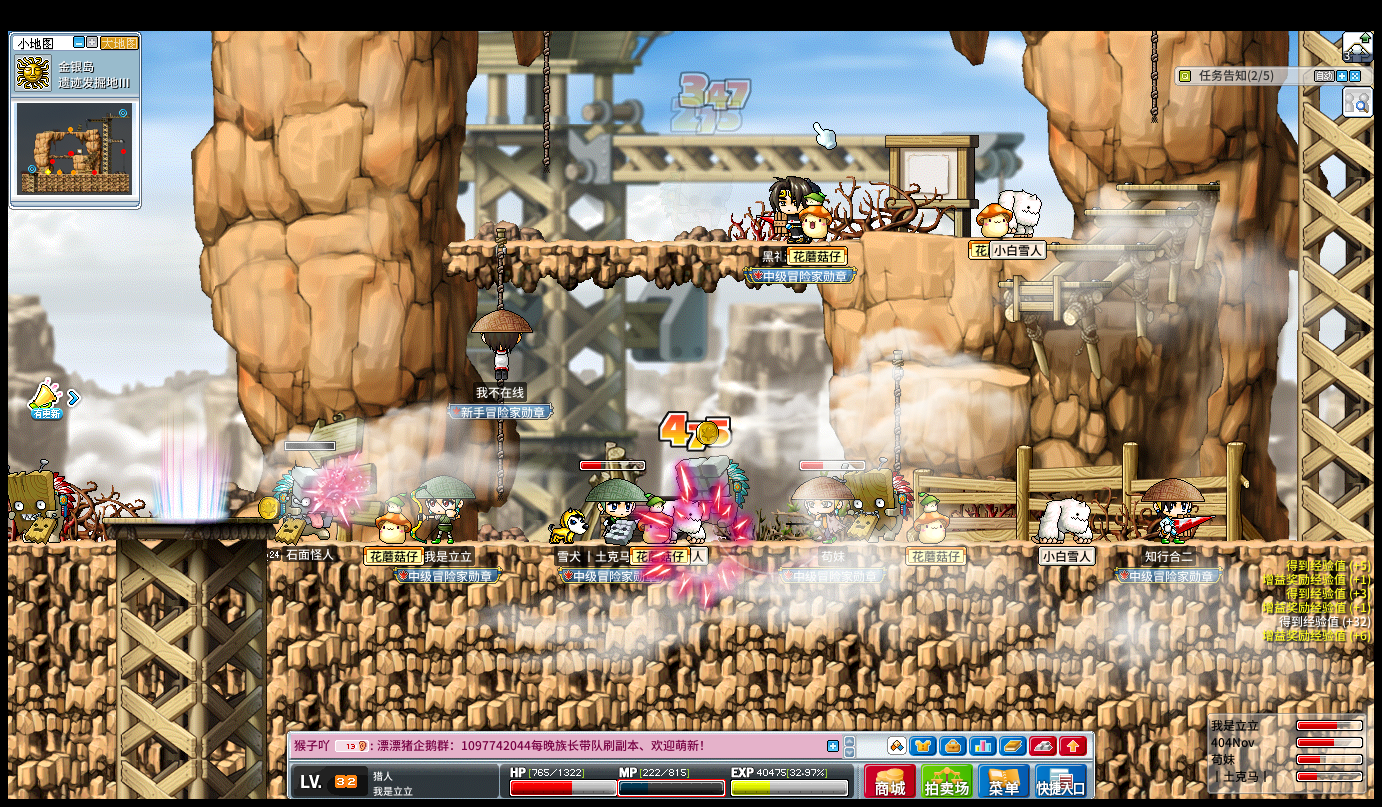floor: (266, 539, 1373, 550), (445, 237, 829, 249), (924, 363, 1031, 386), (101, 515, 276, 525), (6, 540, 115, 551), (952, 234, 1080, 243), (996, 280, 1109, 290), (1046, 243, 1157, 251), (1115, 184, 1220, 191), (1083, 208, 1200, 214)
monster: (840, 462, 913, 542), (5, 462, 74, 544), (274, 467, 344, 539)
rope: (889, 353, 902, 479), (542, 30, 550, 174), (492, 227, 506, 308), (496, 426, 509, 496), (1148, 30, 1157, 124)
